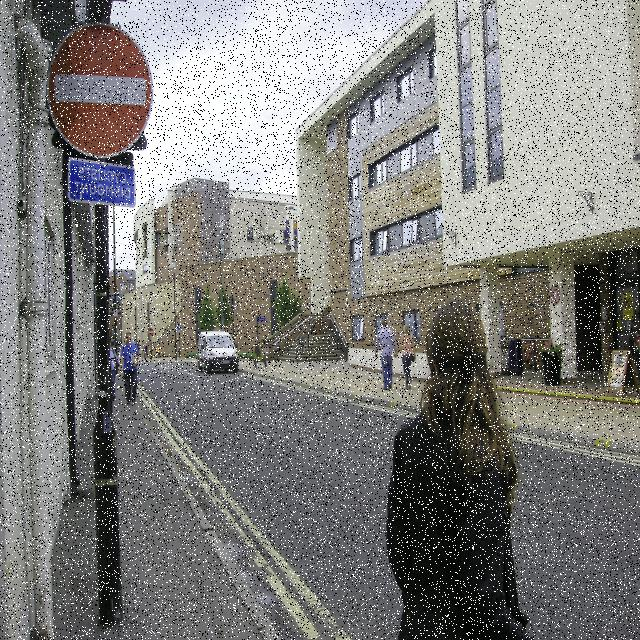no entry: (48, 15, 156, 158)
